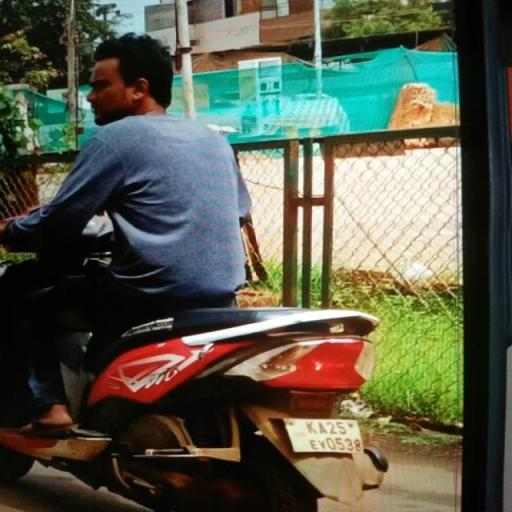bike: (0, 24, 383, 512)
numberplate: (288, 418, 366, 454)
withouthelmet: (91, 41, 168, 113)
